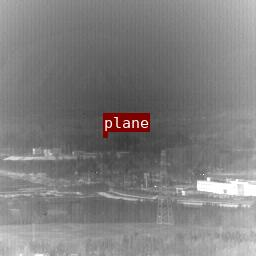plane: (103, 132, 107, 136)
